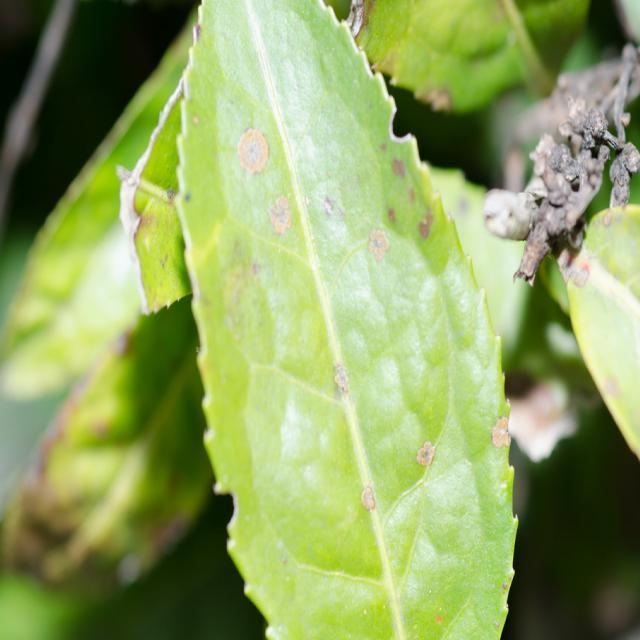Tea red rust: (199, 110, 529, 516)
